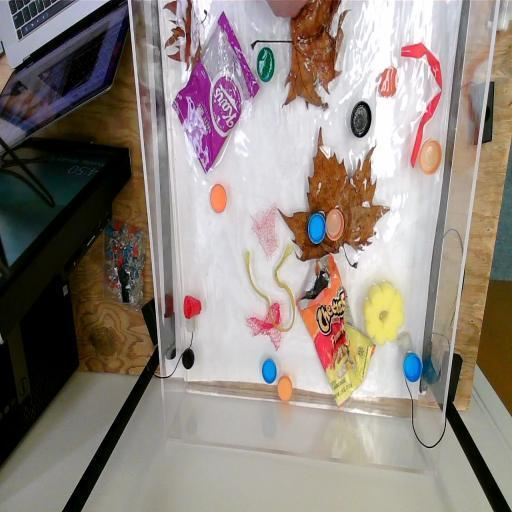Bottle Cap: (349, 100, 373, 140), (420, 138, 443, 176), (208, 181, 229, 216), (256, 47, 276, 83), (380, 64, 400, 100), (404, 348, 424, 383), (326, 206, 346, 241), (308, 208, 326, 246), (276, 376, 295, 404), (260, 358, 278, 386), (182, 347, 196, 370)
Cone Cap: (182, 290, 203, 326)
Leaf: (278, 124, 392, 272), (285, 0, 347, 109), (162, 0, 210, 75)
Netting: (245, 300, 284, 352), (248, 202, 280, 262)
Plastic Bag: (172, 16, 260, 176), (296, 255, 376, 414)
Plastic Strand: (400, 34, 444, 172), (244, 249, 296, 334)
Sponge: (362, 279, 405, 347)
